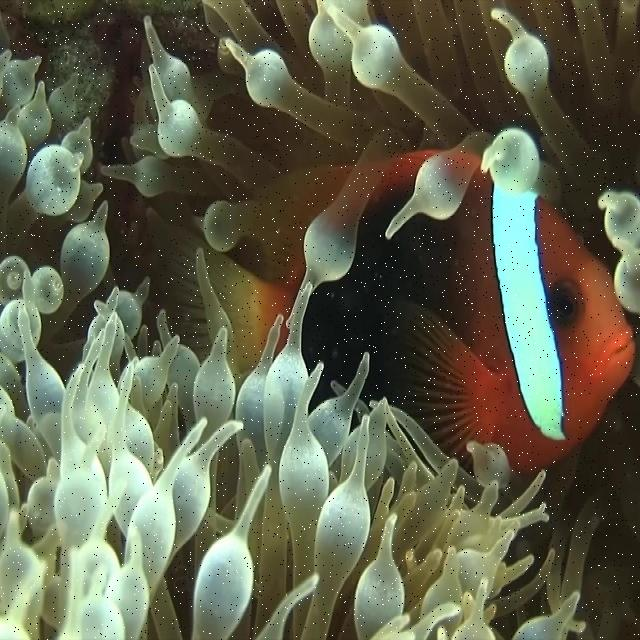fish: (299, 148, 638, 473), (147, 165, 355, 381)
reefs: (0, 0, 639, 639)
